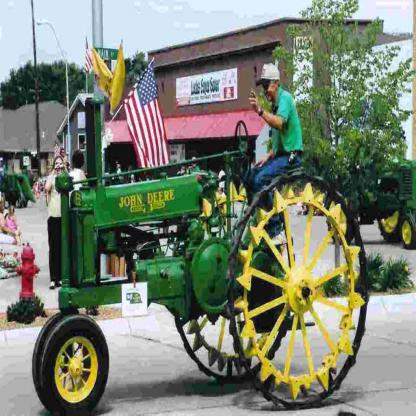face: (265, 78, 277, 101), (56, 159, 64, 176), (63, 151, 66, 158)
